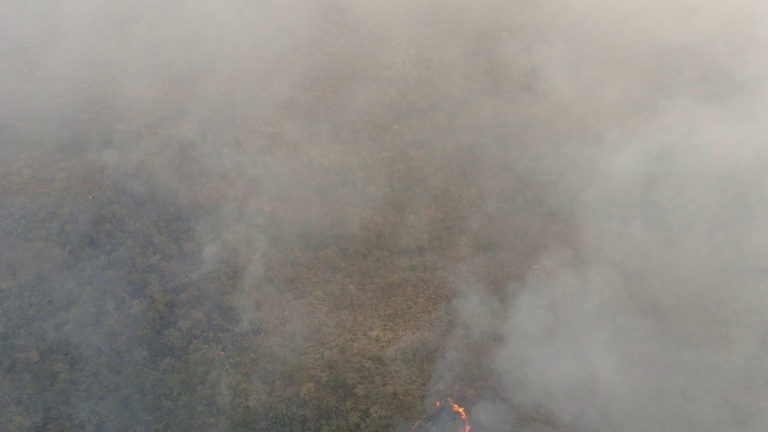fire: (411, 389, 479, 432)
smoke: (482, 1, 768, 432), (2, 1, 477, 211)
